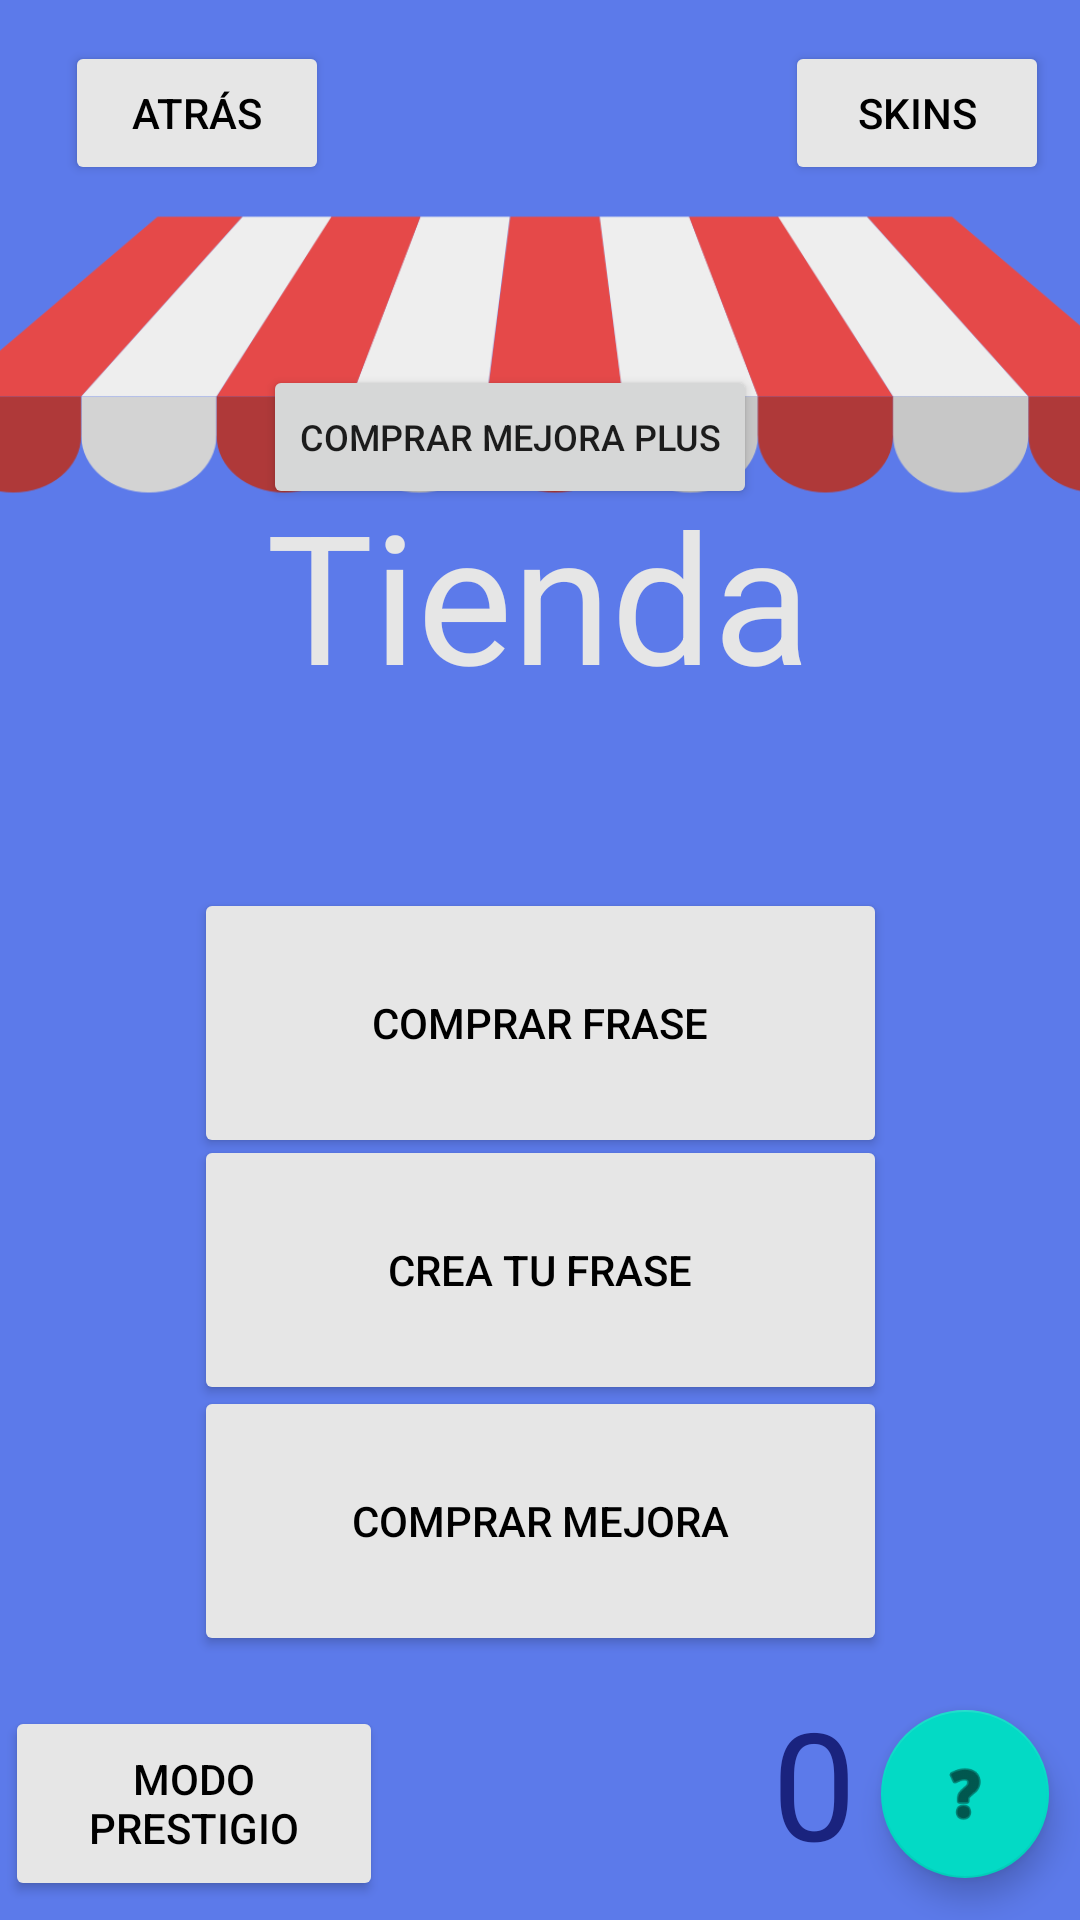

Icon click points for this 1080w x 1920h phone screenshot, format (x,y):
help: (965,1794)
